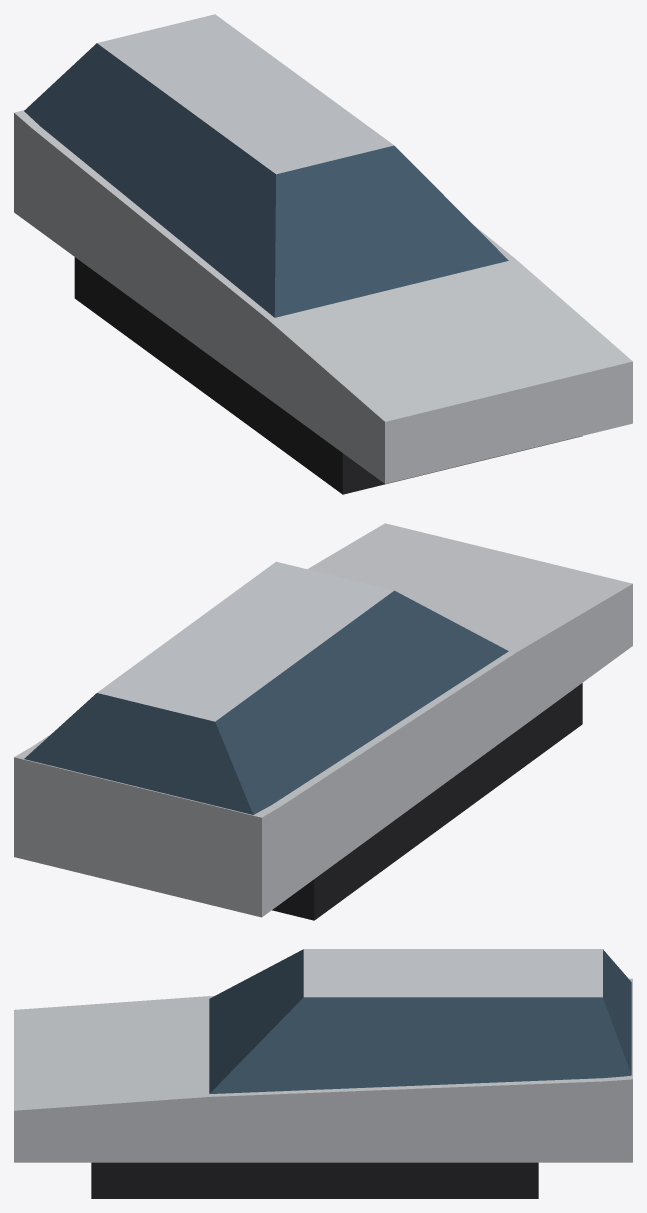
File: 355_far.fbx
The picture shows the model from 3 angles, top to bottom: view 1: azimuth 30°, elevation 25°; view 2: azimuth 150°, elevation 25°; view 3: azimuth 270°, elevation 25°; orthographic projection. The views are drawn at different scales.
Parts seen in each view (by area): view 1: 355_far; view 2: 355_far; view 3: 355_far.
Part boxes in pixels (x1,y1,x2,y2): 355_far: [14, 14, 632, 494]; 355_far: [14, 523, 632, 920]; 355_far: [14, 949, 632, 1198].
Size of the model in its own units: 1.82 by 1.49 by 4.72.
